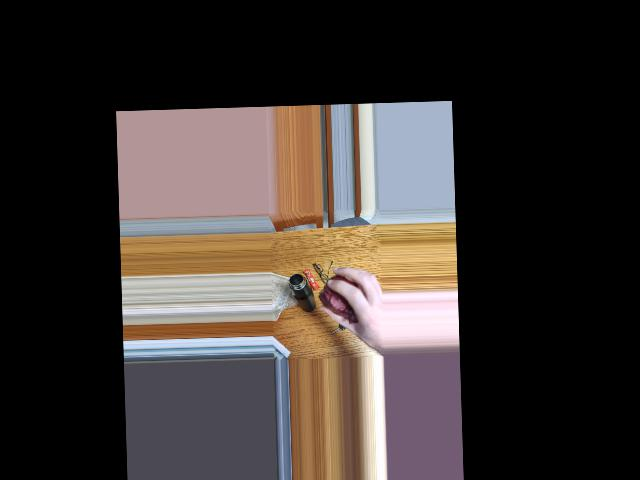onion: (322, 276, 358, 320)
